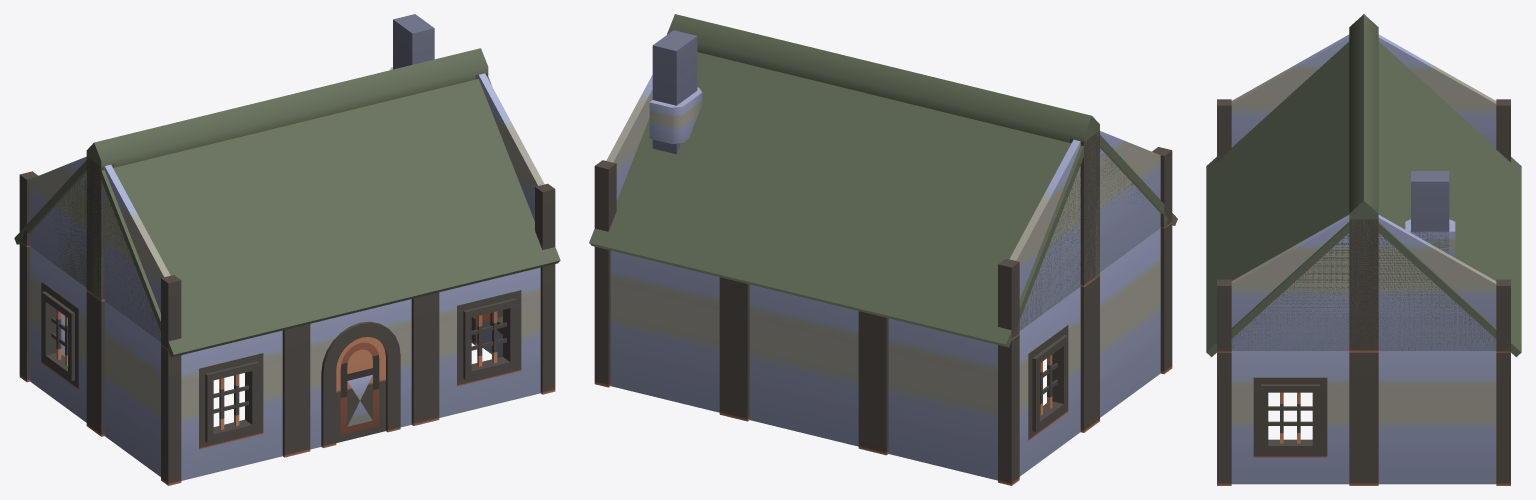
The model's file is maison-elcres-3.glb.
3 renders of one model, left to right at view 1: azimuth 30°, elevation 25°; view 2: azimuth 150°, elevation 25°; view 3: azimuth 270°, elevation 25°, orthographic. The views are drawn at different scales.
Visible parts, largest first — view 1: roof-high, wall-window-shutters; view 2: wall-window-shutters, roof-high; view 3: wall-window-shutters, roof-high.
Part boxes in pixels (box(x1,y1,x2,y2)): roof-high: box(14, 48, 560, 357); wall-window-shutters: box(19, 14, 555, 485); wall-window-shutters: box(594, 30, 1172, 485); roof-high: box(589, 14, 1177, 347); wall-window-shutters: box(1217, 34, 1510, 485); roof-high: box(1206, 14, 1521, 357).
Size of the model in its own units: 9 by 6.6 by 6.42.
2 materials, 1 textured.
